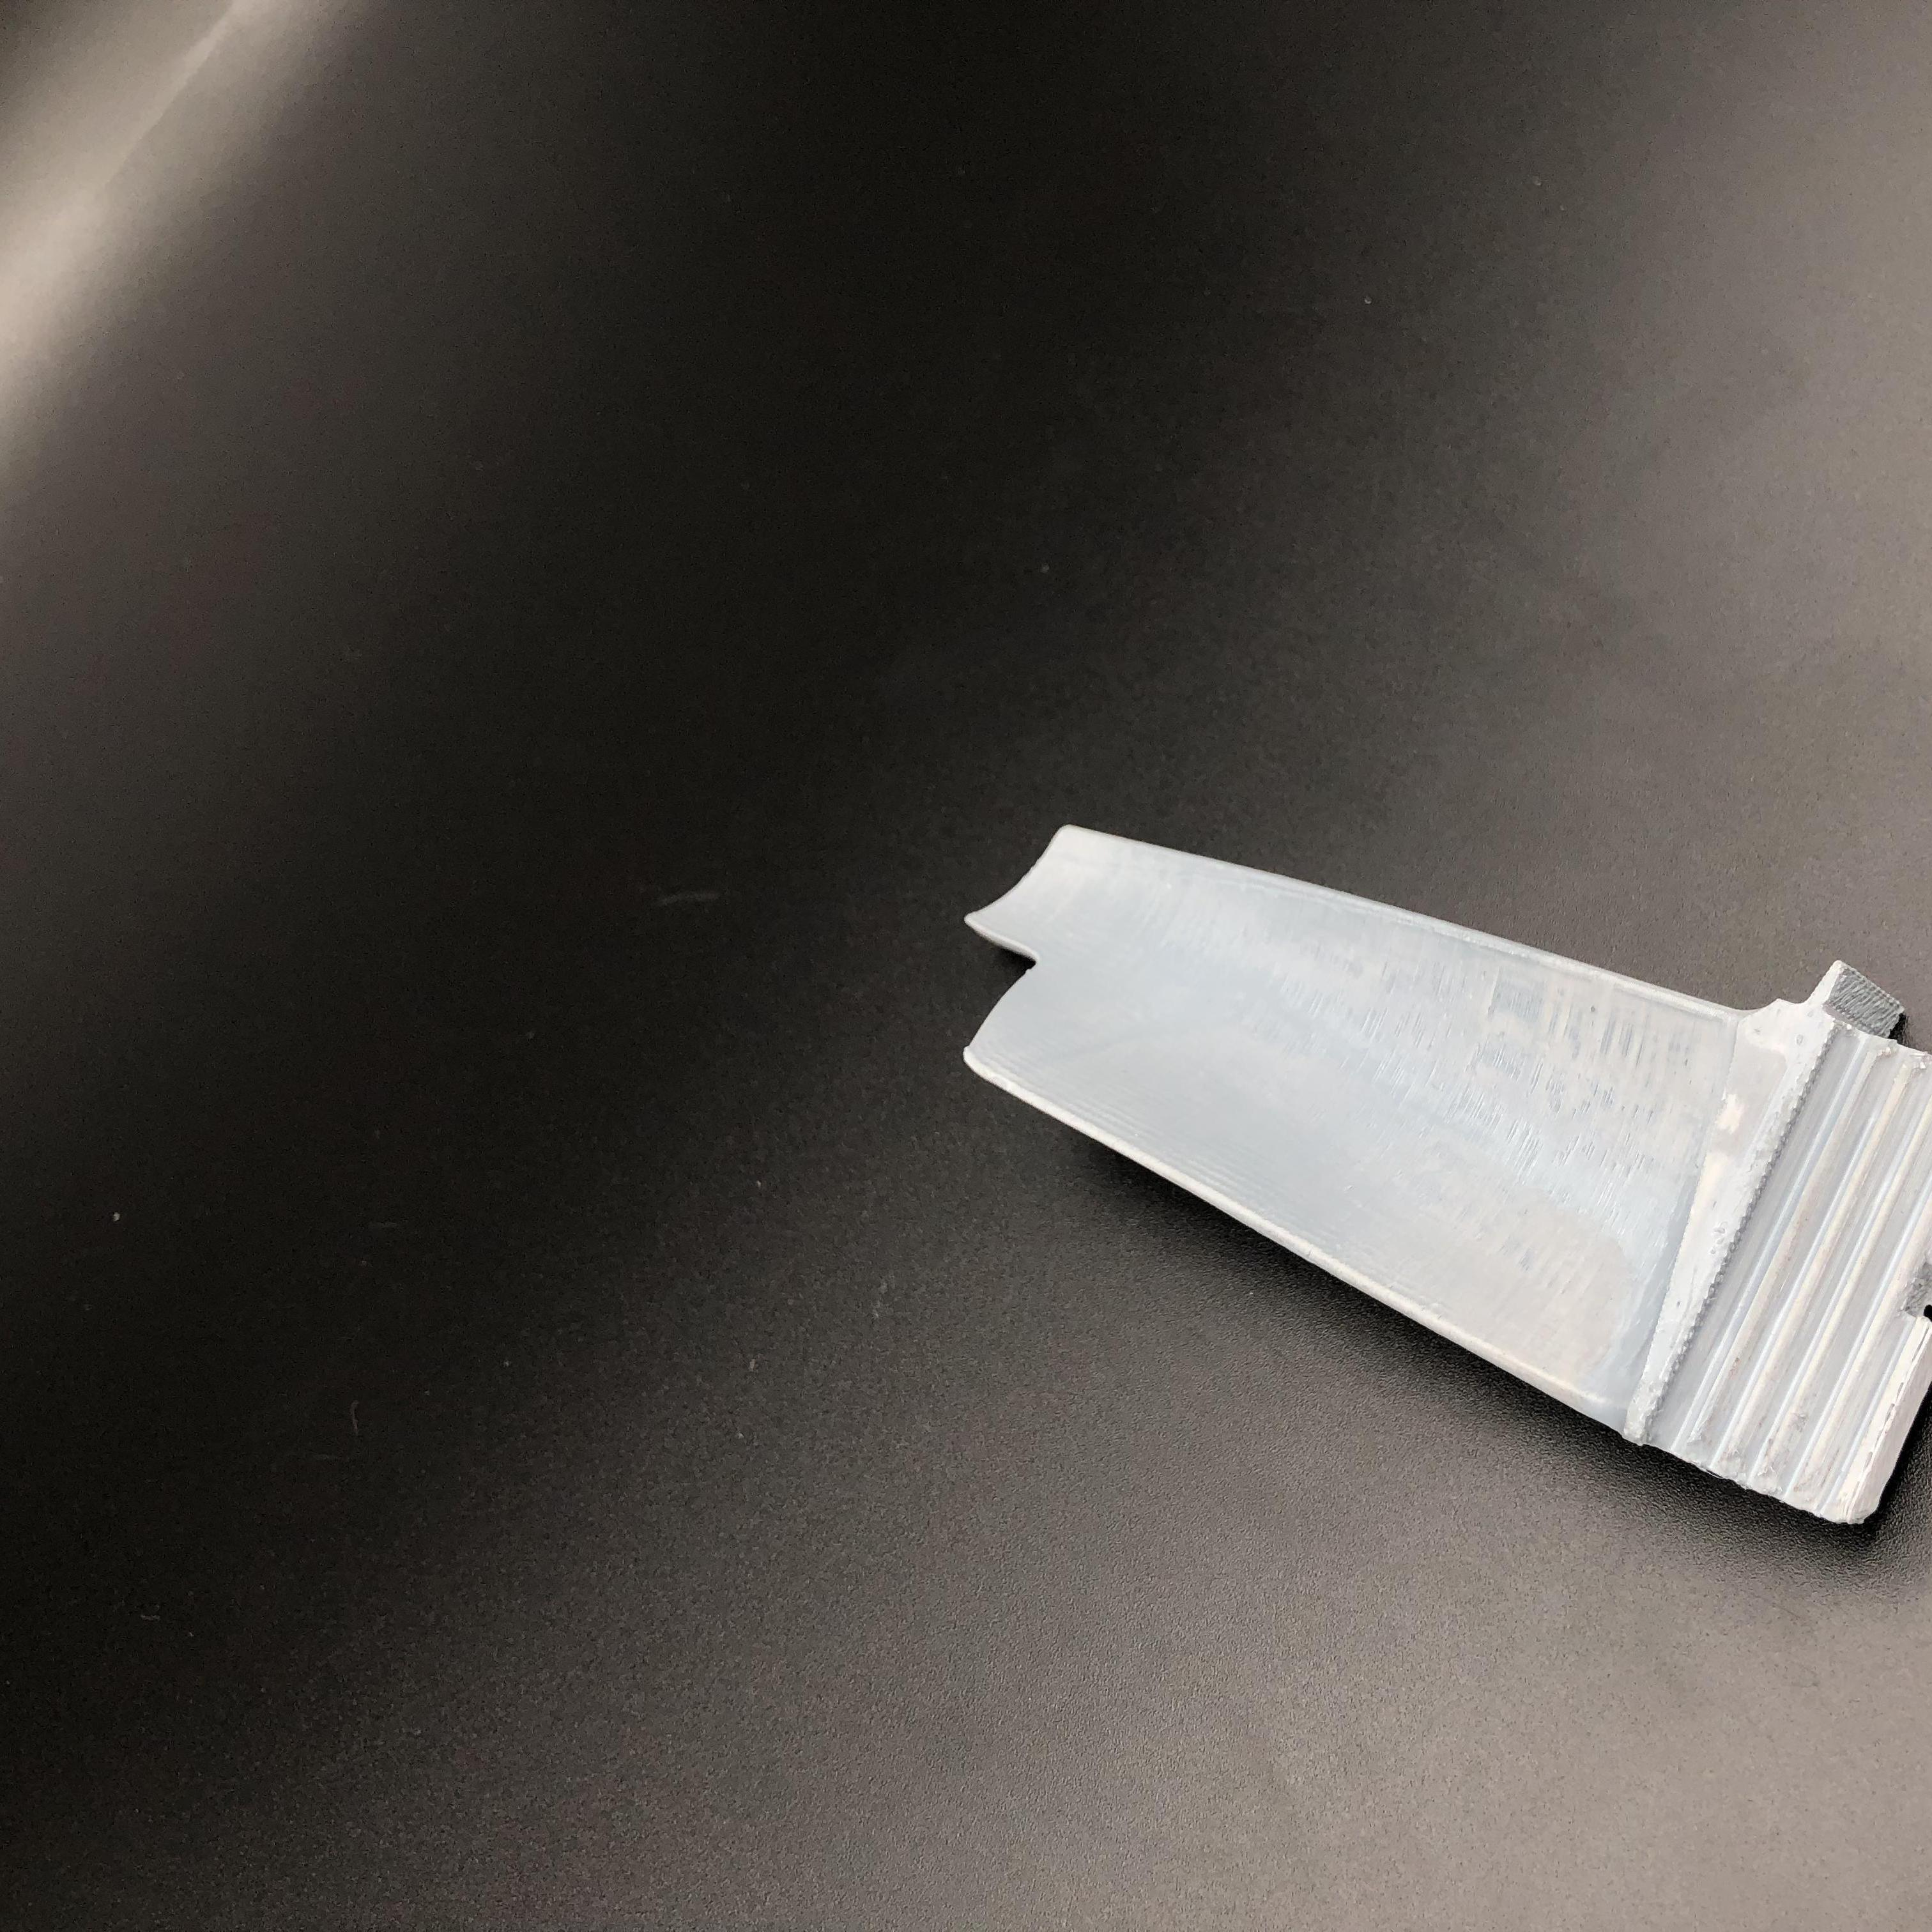fracture: (929, 911, 1076, 1077)
